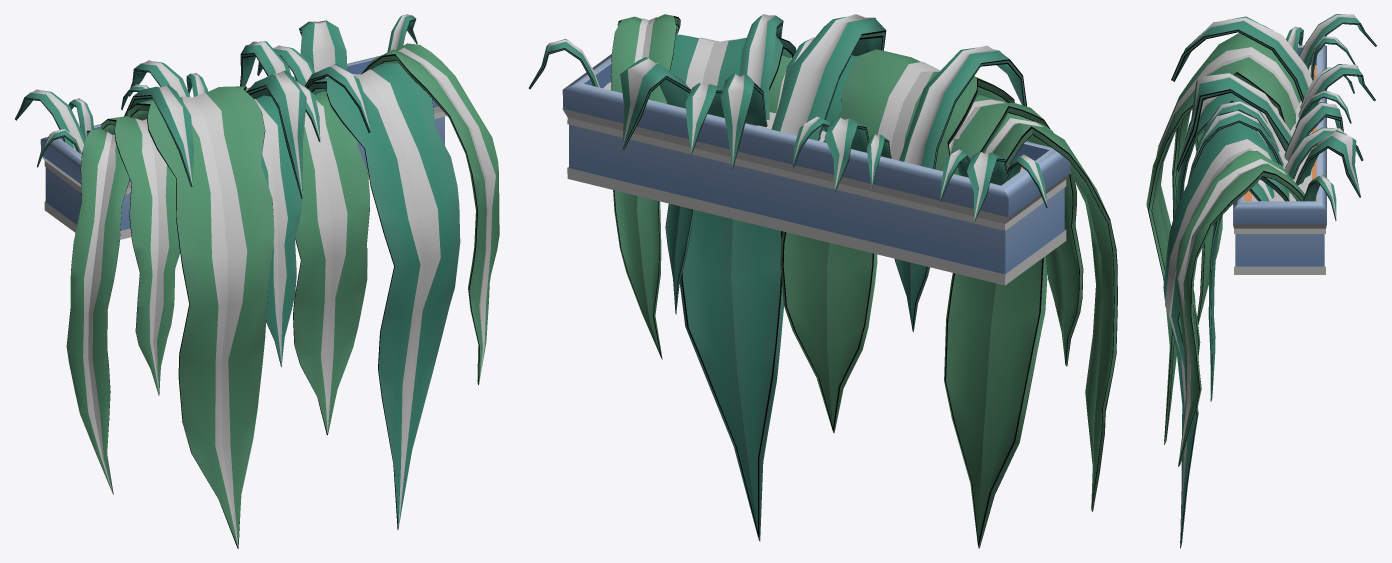
Rendered from Rooms_Paradise_LargeFlowerPot_01_Art.fbx.
3 renders of one model, left to right at view 1: azimuth 30°, elevation 25°; view 2: azimuth 150°, elevation 25°; view 3: azimuth 270°, elevation 25°, orthographic. The views are drawn at different scales.
Visible parts, largest first — view 1: Rooms_Paradise_LargeFlowerPot_01_sheets, Rooms_Paradise_LargeFlowerPot_01_Art, Rooms_Paradise_LargeFlowerPot_01_Shadows; view 2: Rooms_Paradise_LargeFlowerPot_01_sheets, Rooms_Paradise_LargeFlowerPot_01_Art, Rooms_Paradise_LargeFlowerPot_01_Shadows; view 3: Rooms_Paradise_LargeFlowerPot_01_sheets, Rooms_Paradise_LargeFlowerPot_01_Art, Rooms_Paradise_LargeFlowerPot_01_Shadows.
Part boxes in pixels (x1,y1,x2,y2): Rooms_Paradise_LargeFlowerPot_01_sheets: (15,14,499,548); Rooms_Paradise_LargeFlowerPot_01_Art: (40,55,444,230); Rooms_Paradise_LargeFlowerPot_01_Shadows: (42,106,446,239); Rooms_Paradise_LargeFlowerPot_01_sheets: (528,14,1117,548); Rooms_Paradise_LargeFlowerPot_01_Art: (562,54,1070,274); Rooms_Paradise_LargeFlowerPot_01_Shadows: (562,82,1070,285); Rooms_Paradise_LargeFlowerPot_01_sheets: (1146,14,1376,548); Rooms_Paradise_LargeFlowerPot_01_Art: (1233,45,1326,266); Rooms_Paradise_LargeFlowerPot_01_Shadows: (1233,65,1326,274).
Bounding box in the file's own units: 405 × 432 × 207.
